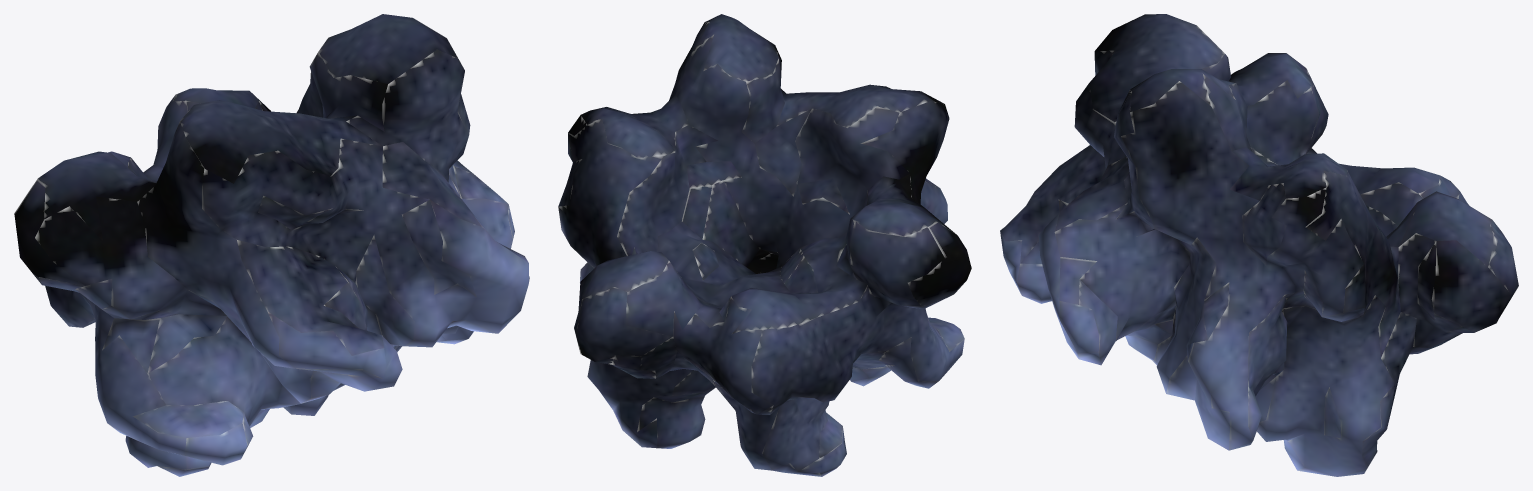
File: hex001G4.fbx
The picture shows the model from 3 angles, left to right: view 1: azimuth 30°, elevation 25°; view 2: azimuth 150°, elevation 25°; view 3: azimuth 270°, elevation 25°; orthographic projection. The views are drawn at different scales.
Parts seen in each view (by area): view 1: CoarseMS_hex001; view 2: CoarseMS_hex001; view 3: CoarseMS_hex001.
Boxes of the visible parts, x1,y1,x2,y2 form: CoarseMS_hex001: (14, 14, 529, 476); CoarseMS_hex001: (558, 14, 971, 476); CoarseMS_hex001: (1000, 14, 1518, 476).
Size of the model in its own units: 106 by 96.11 by 109.
1 material, 1 textured.
